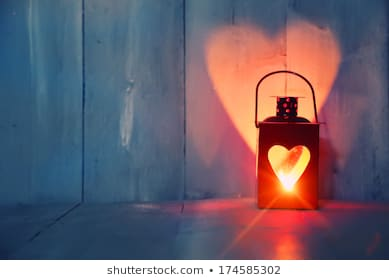Fire: (277, 165, 299, 195)
